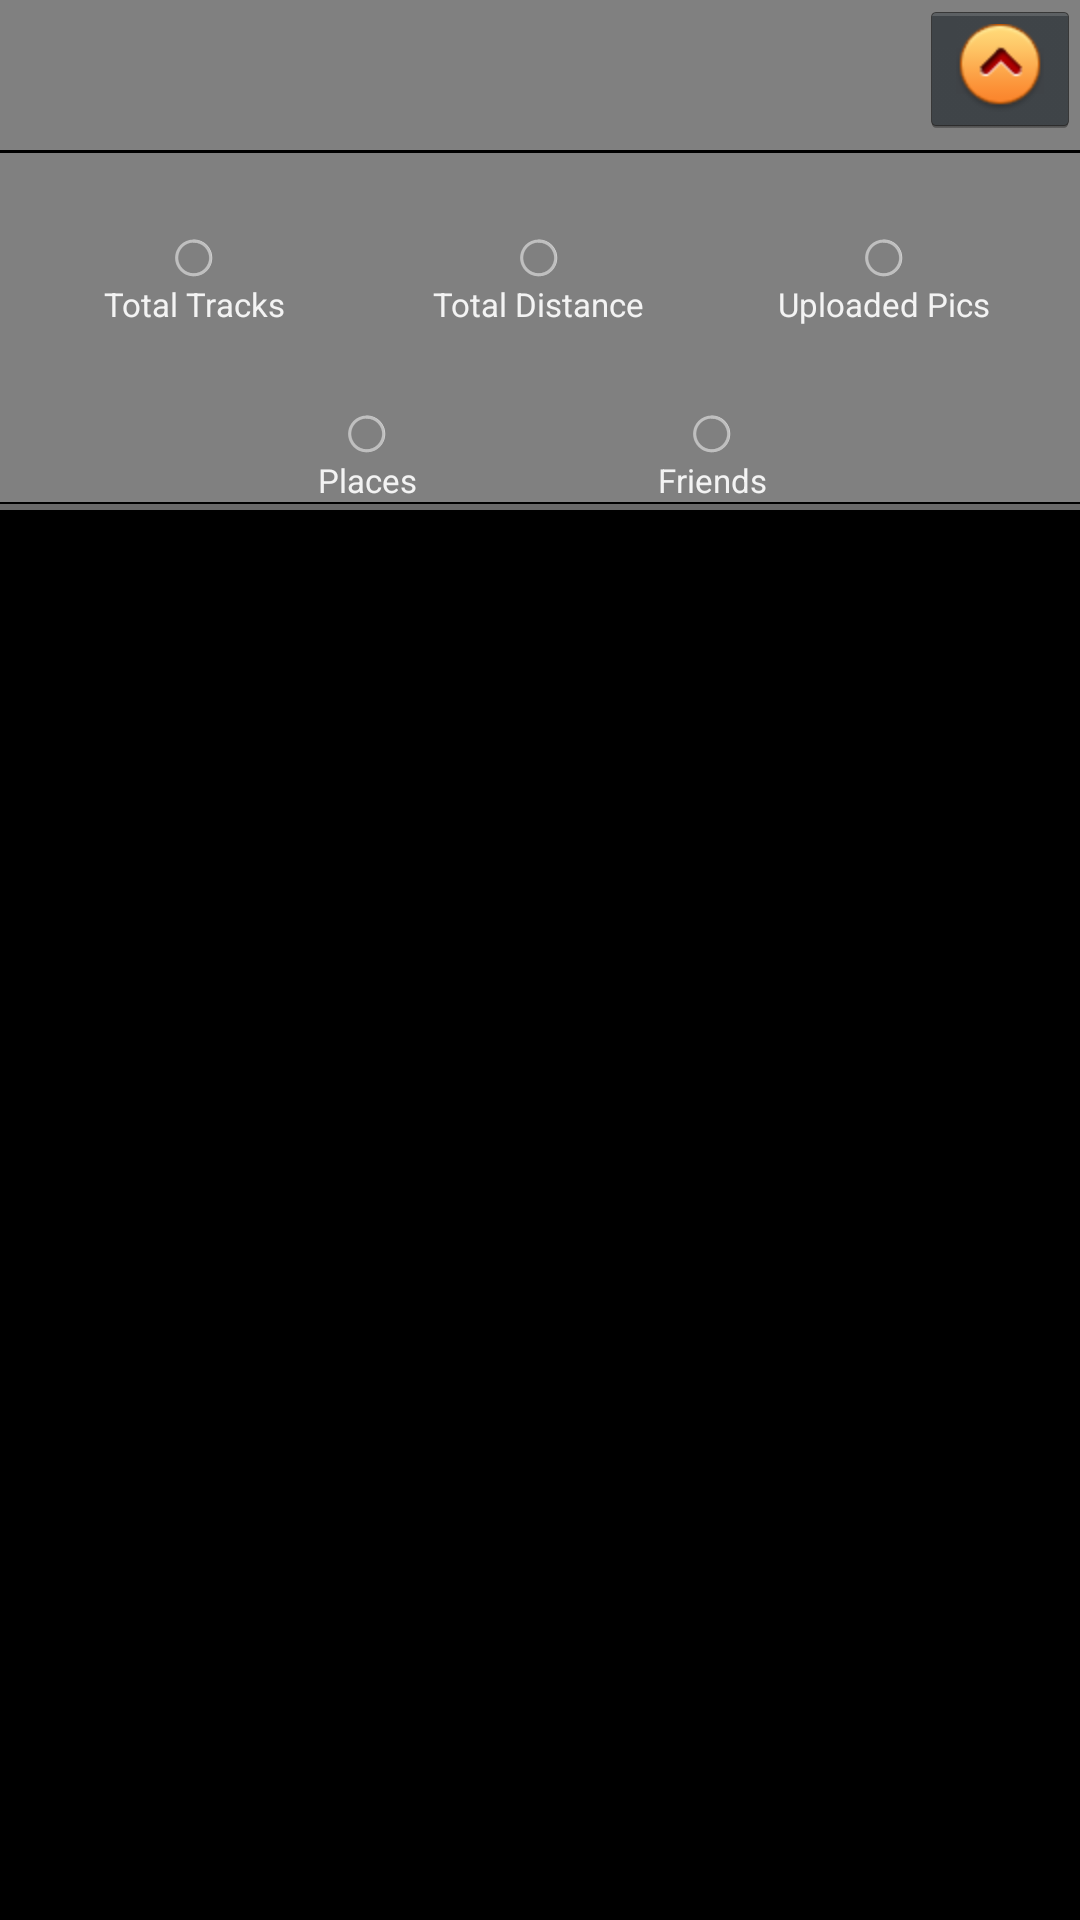

Icon bounding boxes for this 1080×1920 phone screenshot, format (x1, y1, x2, y2):
arrow: (931, 12, 1069, 128)
